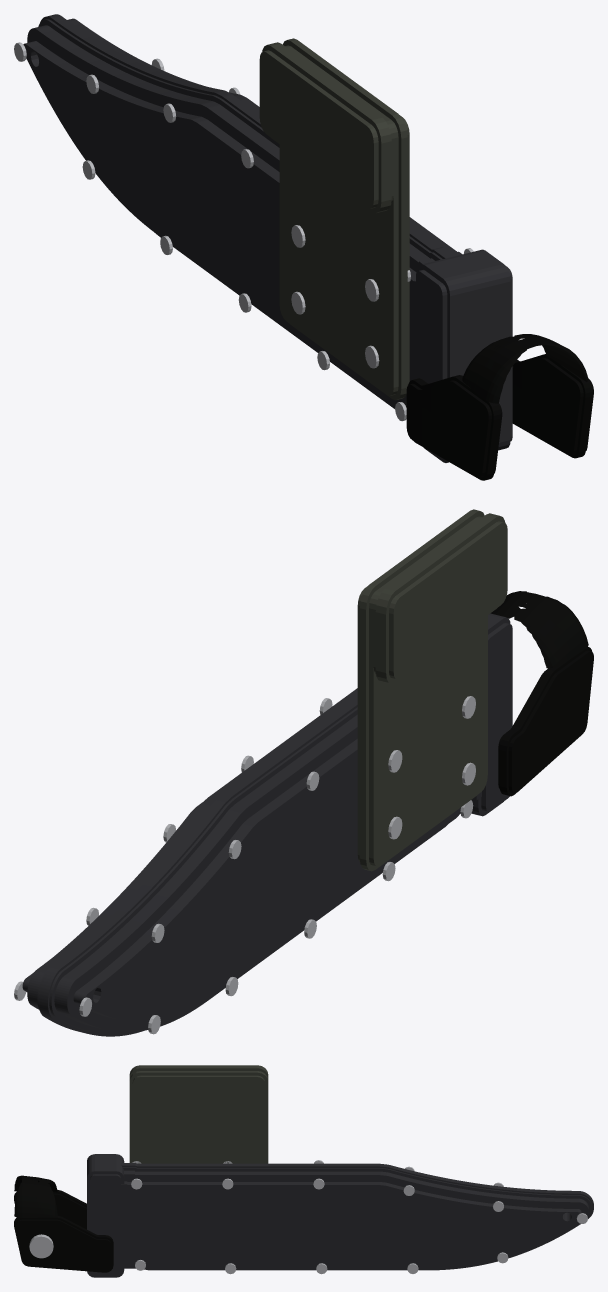
Rendered from bainha_cinto_faca.glb.
3 renders of one model, top to bottom at view 1: azimuth 30°, elevation 25°; view 2: azimuth 150°, elevation 25°; view 3: azimuth 270°, elevation 25°, orthographic. The views are drawn at different scales.
Parts seen in each view (by area): view 1: bainha_cinto_faca_polimero, bainha_cinto_faca_nylon_coldre, bainha_cinto_faca_nylon, bainha_cinto_faca_aco_inox; view 2: bainha_cinto_faca_polimero, bainha_cinto_faca_nylon_coldre, bainha_cinto_faca_nylon, bainha_cinto_faca_aco_inox; view 3: bainha_cinto_faca_polimero, bainha_cinto_faca_nylon_coldre, bainha_cinto_faca_nylon, bainha_cinto_faca_aco_inox.
Boxes of the visible parts, x1,y1,x2,y2 form: bainha_cinto_faca_polimero: (23, 14, 512, 462); bainha_cinto_faca_nylon_coldre: (259, 38, 409, 400); bainha_cinto_faca_nylon: (406, 334, 593, 480); bainha_cinto_faca_aco_inox: (14, 27, 473, 421); bainha_cinto_faca_polimero: (22, 613, 512, 1036); bainha_cinto_faca_nylon_coldre: (357, 509, 507, 871); bainha_cinto_faca_nylon: (490, 591, 593, 796); bainha_cinto_faca_aco_inox: (14, 696, 475, 1034); bainha_cinto_faca_polimero: (87, 1154, 593, 1277); bainha_cinto_faca_nylon_coldre: (129, 1065, 268, 1163); bainha_cinto_faca_nylon: (14, 1175, 113, 1272); bainha_cinto_faca_aco_inox: (29, 1160, 587, 1274).
Bounding box in the file's own units: 0.032 × 0.077 × 0.2173.
4 materials, 1 textured.
